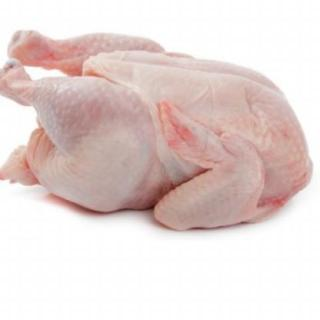Ayam: (1, 30, 313, 230)
